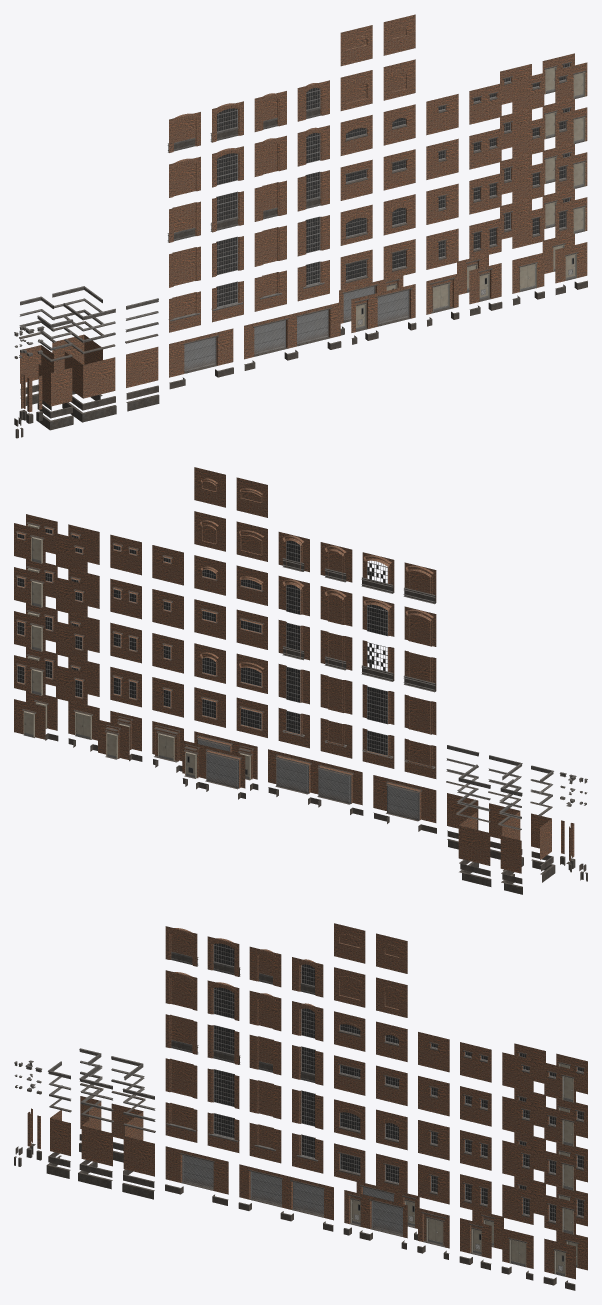
Rendered from modular-factory-facade.glb.
The picture shows the model from 3 angles, top to bottom: view 1: azimuth 30°, elevation 25°; view 2: azimuth 150°, elevation 25°; view 3: azimuth 330°, elevation 25°; orthographic projection.
Parts seen in each view (by area): view 1: door_garage_double_01, wall_standard_corner_large_01, wall_door_garage_double_01, door_garage_door_01, wall_door_garage_centered_01, wall_window_centered_medium_05, wall_window_tall_small_09, wall_standard_standard_01, wall_window_centered_large_05, wall_window_centered_medium_06, wall_window_tall_small_07, wall_window_centered_large_06 (+57 smaller); view 2: door_garage_double_01, door_garage_door_02, wall_door_garage_double_01, wall_door_garage_centered_01, wall_standard_corner_large_02, wall_window_tall_large_09, wall_window_tall_small_09, wall_window_tall_large_07, wall_window_tall_small_07, wall_window_tall_small_06, wall_window_tall_large_06, wall_window_centered_medium_06 (+62 smaller); view 3: door_garage_double_01, wall_door_garage_double_01, door_garage_door_01, wall_door_garage_centered_01, wall_standard_corner_large_01, wall_window_tall_large_09, wall_window_tall_large_07, wall_window_tall_small_07, wall_window_tall_small_09, wall_window_tall_small_06, wall_window_centered_large_05, wall_window_tall_large_06 (+67 smaller).
Boxes of the visible parts, box(x1,y1,x2,y2) form: door_garage_double_01: box(253, 307, 331, 356); wall_standard_corner_large_01: box(64, 352, 115, 398); wall_door_garage_double_01: box(244, 302, 340, 359); door_garage_door_01: box(355, 288, 412, 331); wall_door_garage_centered_01: box(169, 328, 233, 377); wall_window_centered_medium_05: box(383, 59, 415, 100); wall_window_tall_small_09: box(254, 135, 286, 176); wall_standard_standard_01: box(126, 347, 158, 387); wall_window_centered_large_05: box(340, 70, 372, 110); wall_window_centered_medium_06: box(383, 14, 415, 55); wall_window_tall_small_07: box(254, 225, 286, 266); wall_window_centered_large_06: box(340, 25, 372, 66); door_garage_double_01: box(275, 754, 353, 804); door_garage_door_02: box(184, 744, 241, 789); wall_door_garage_double_01: box(268, 749, 362, 805); wall_door_garage_centered_01: box(373, 775, 436, 822); wall_standard_corner_large_02: box(458, 812, 490, 865); wall_window_tall_large_09: box(404, 606, 436, 646); wall_window_tall_small_09: box(320, 586, 352, 626); wall_window_tall_large_07: box(404, 694, 436, 734); wall_window_tall_small_07: box(320, 674, 352, 714); wall_window_tall_small_06: box(320, 718, 352, 758); wall_window_tall_large_06: box(404, 738, 436, 778); wall_window_centered_medium_06: box(194, 467, 225, 507); door_garage_double_01: box(248, 1169, 324, 1217); wall_door_garage_double_01: box(239, 1164, 333, 1220); door_garage_door_01: box(348, 1194, 403, 1236); wall_door_garage_centered_01: box(165, 1146, 228, 1194); wall_standard_corner_large_01: box(81, 1112, 112, 1166); wall_window_tall_large_09: box(165, 970, 197, 1010); wall_window_tall_large_07: box(165, 1058, 197, 1098); wall_window_tall_small_07: box(249, 1079, 281, 1119); wall_window_tall_small_09: box(249, 991, 281, 1031); wall_window_tall_small_06: box(249, 1123, 281, 1163); wall_window_centered_large_05: box(334, 967, 365, 1007); wall_window_tall_large_06: box(165, 1102, 197, 1142).
Size of the model in its own units: 53.33 by 29 by 5.36.
Materials: 6 (6 with a texture image).
